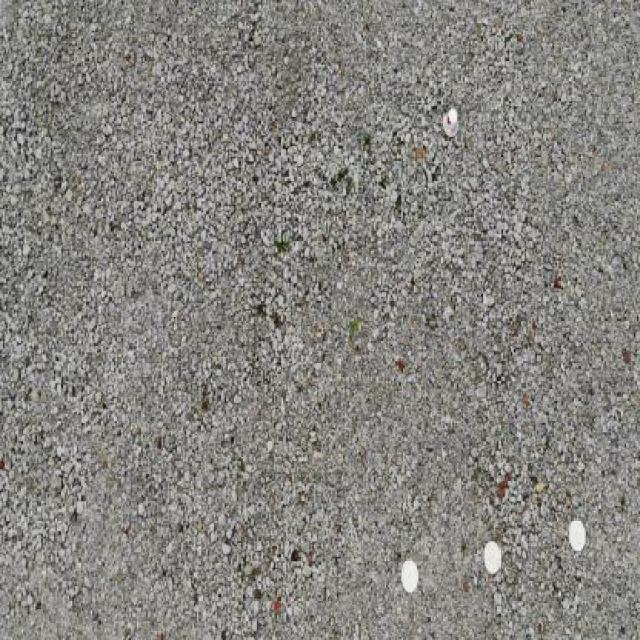Garbage: (442, 108, 458, 137)
